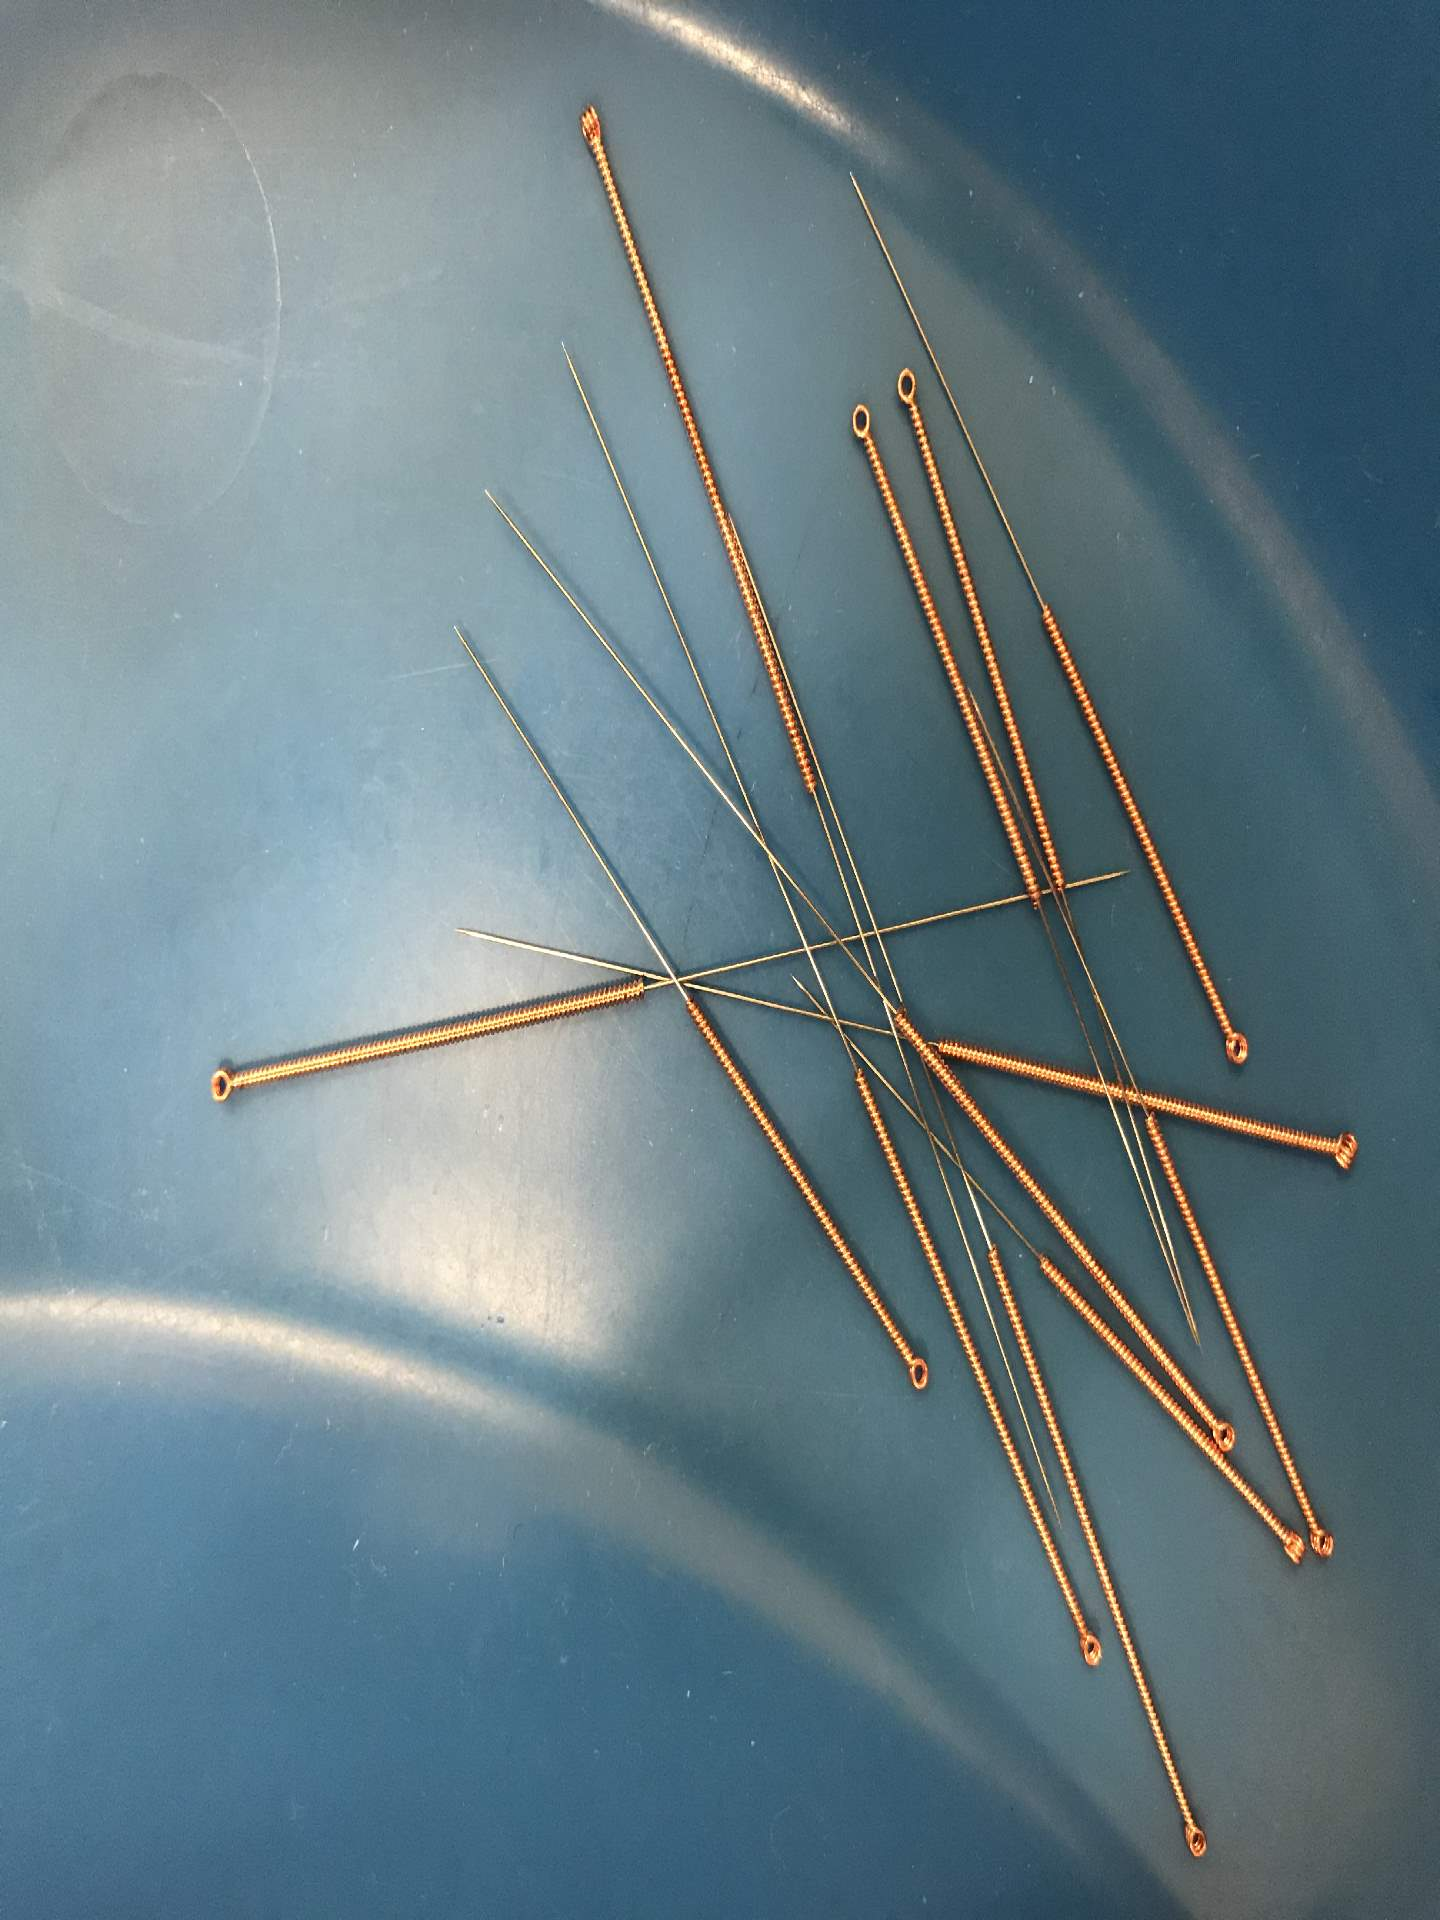needle: (563, 91, 619, 166), (1308, 1119, 1367, 1182), (1206, 1008, 1258, 1075), (836, 392, 886, 461), (1169, 1804, 1221, 1869), (883, 355, 932, 422), (1063, 1616, 1112, 1681), (200, 1054, 247, 1116), (889, 1346, 939, 1401), (1302, 1504, 1342, 1572), (1268, 1521, 1308, 1572), (1204, 1404, 1239, 1457)
